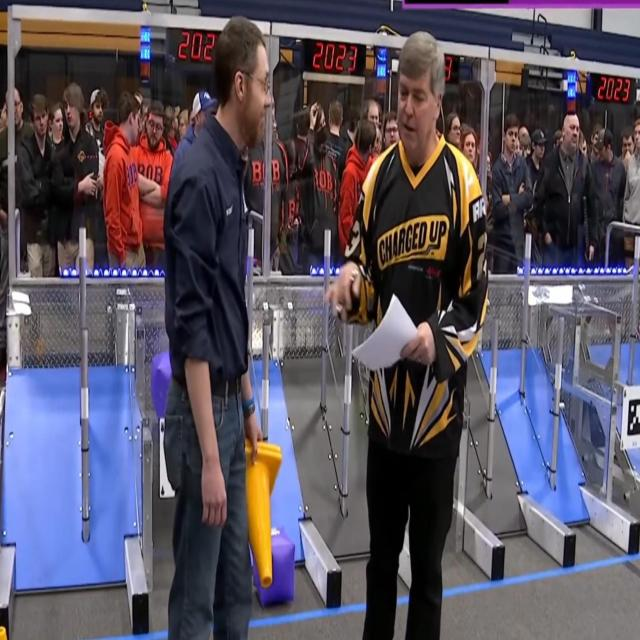frc_cone: (238, 439, 279, 587)
frc_cube: (260, 530, 294, 606), (148, 356, 176, 418)
